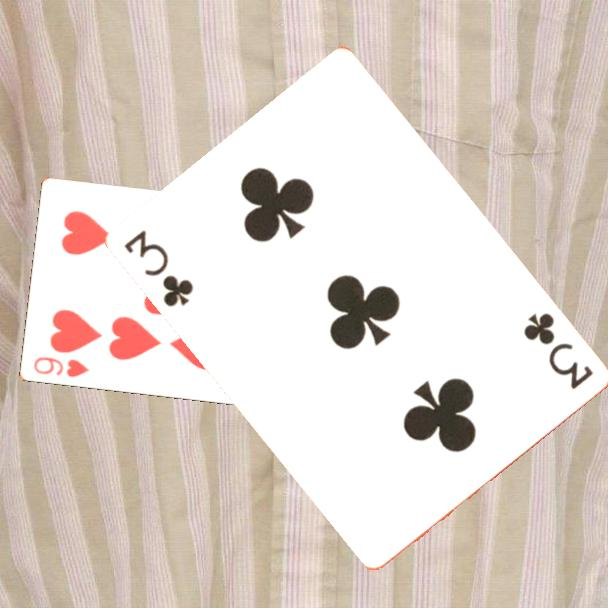c03: (519, 308, 596, 393), (119, 226, 196, 310)
h09: (30, 353, 91, 380)
